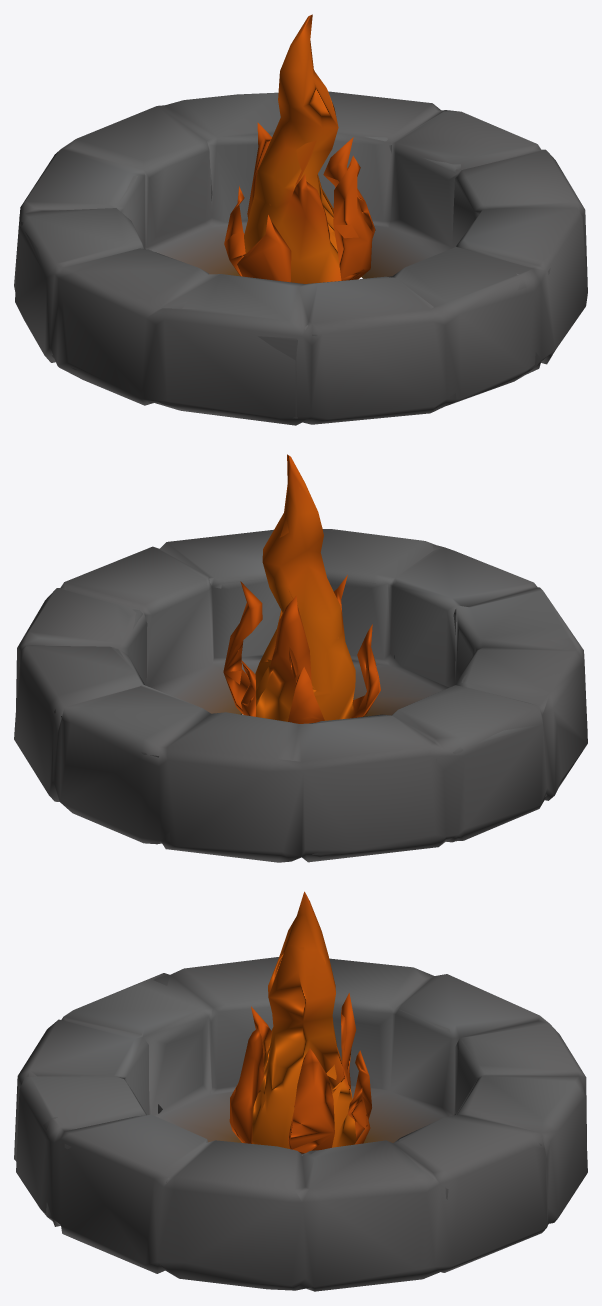
File: gen3d-fire-pit-lod1.glb
3 renders of one model, top to bottom at view 1: azimuth 30°, elevation 25°; view 2: azimuth 150°, elevation 25°; view 3: azimuth 270°, elevation 25°, orthographic.
Parts seen in each view (by area): view 1: part_0; view 2: part_0; view 3: part_0.
Part boxes in pixels (x1,y1,x2,y2): part_0: (14, 14, 587, 425); part_0: (14, 454, 587, 862); part_0: (14, 891, 587, 1291).
Size of the model in its own units: 1.79 by 0.9892 by 1.79.
